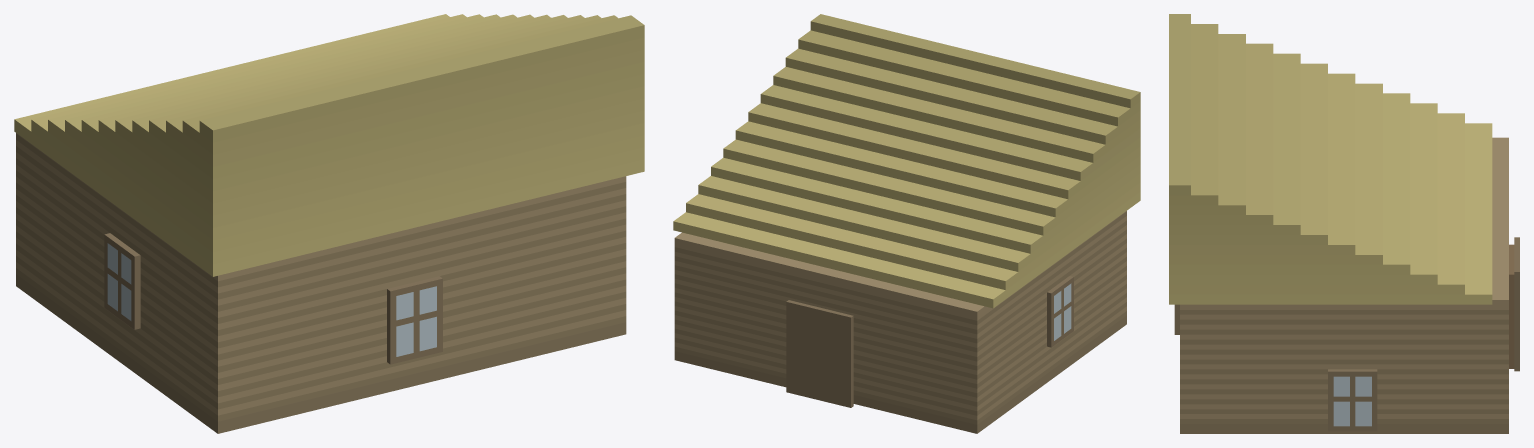
The model's file is cabana_apicultor_02.glb.
3 renders of one model, left to right at view 1: azimuth 30°, elevation 25°; view 2: azimuth 150°, elevation 25°; view 3: azimuth 270°, elevation 25°, orthographic. The views are drawn at different scales.
Parts seen in each view (by area): view 1: cabana_apicultor_02; view 2: cabana_apicultor_02; view 3: cabana_apicultor_02.
Part boxes in pixels (<box>): cabana_apicultor_02: <box>14,14,644,433</box>; cabana_apicultor_02: <box>673,14,1140,433</box>; cabana_apicultor_02: <box>1169,14,1519,433</box>.
Size of the model in its own units: 7.4 by 5.1 by 6.4.
